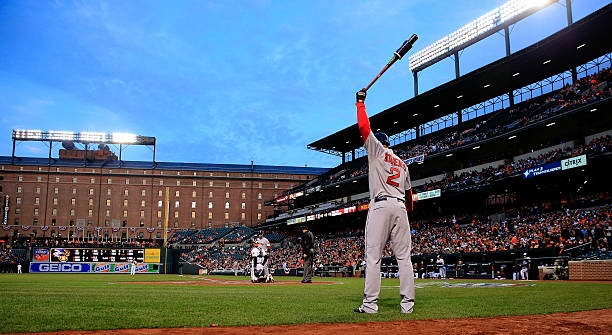bita: (356, 36, 421, 96)
